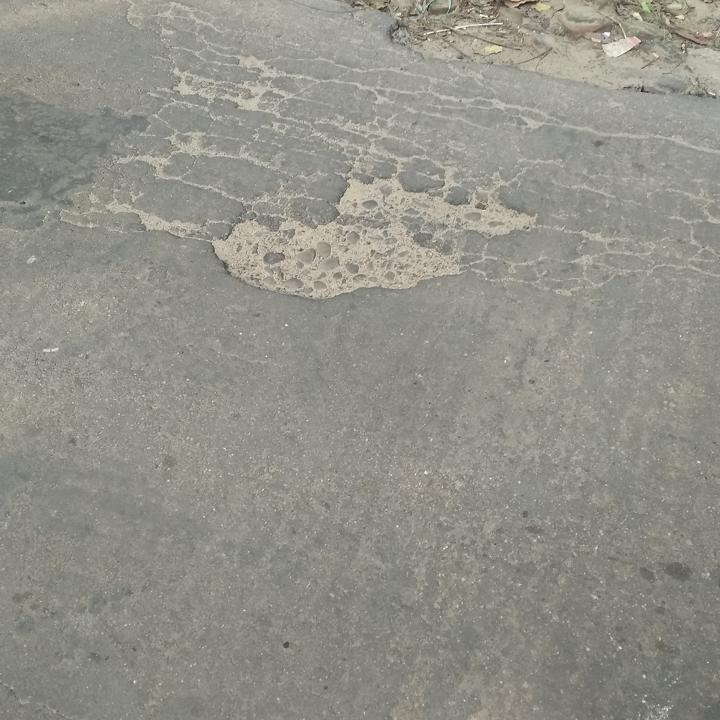pothole: (207, 169, 545, 300)
